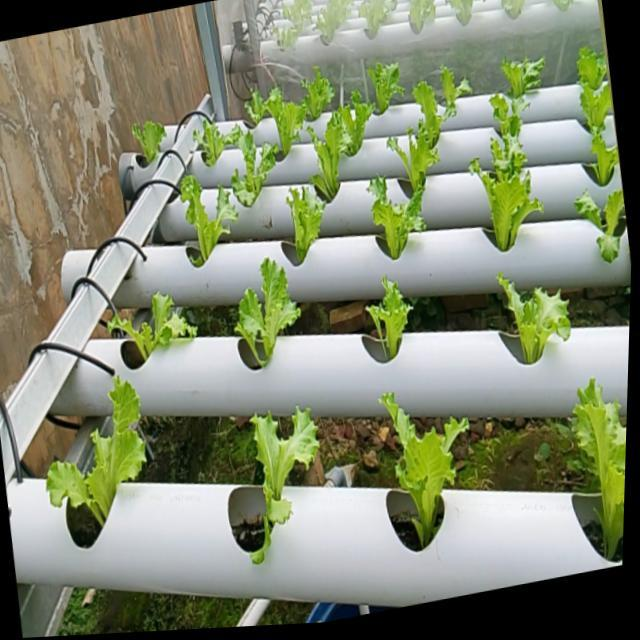Baby: (48, 386, 147, 536), (380, 401, 468, 556), (251, 418, 319, 573), (572, 388, 626, 568), (235, 263, 300, 372), (386, 104, 454, 201), (497, 279, 569, 370), (104, 295, 196, 364), (306, 110, 362, 207), (179, 179, 237, 271), (363, 58, 420, 143), (477, 176, 537, 256), (244, 89, 305, 161), (230, 131, 278, 212), (573, 194, 625, 266), (367, 281, 412, 364), (487, 112, 529, 199), (369, 182, 412, 264), (285, 191, 325, 269), (577, 56, 610, 135), (192, 118, 240, 171), (431, 68, 473, 124), (300, 69, 334, 124), (501, 59, 544, 101), (130, 122, 166, 164)
